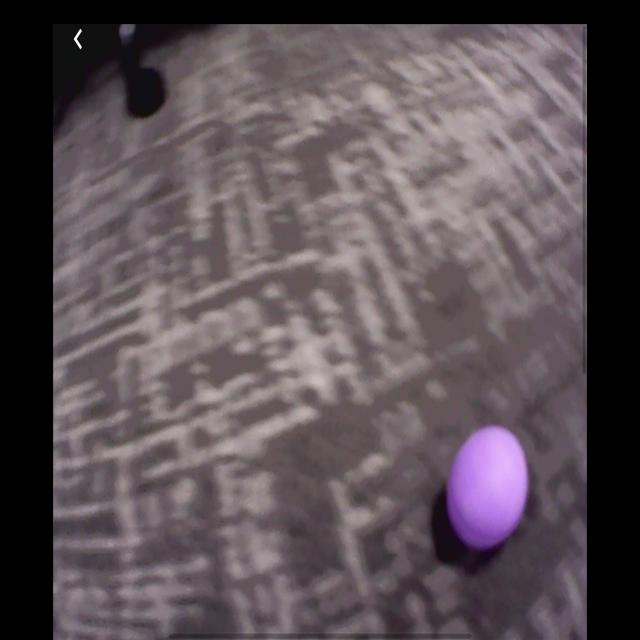ball: (449, 427, 529, 547)
